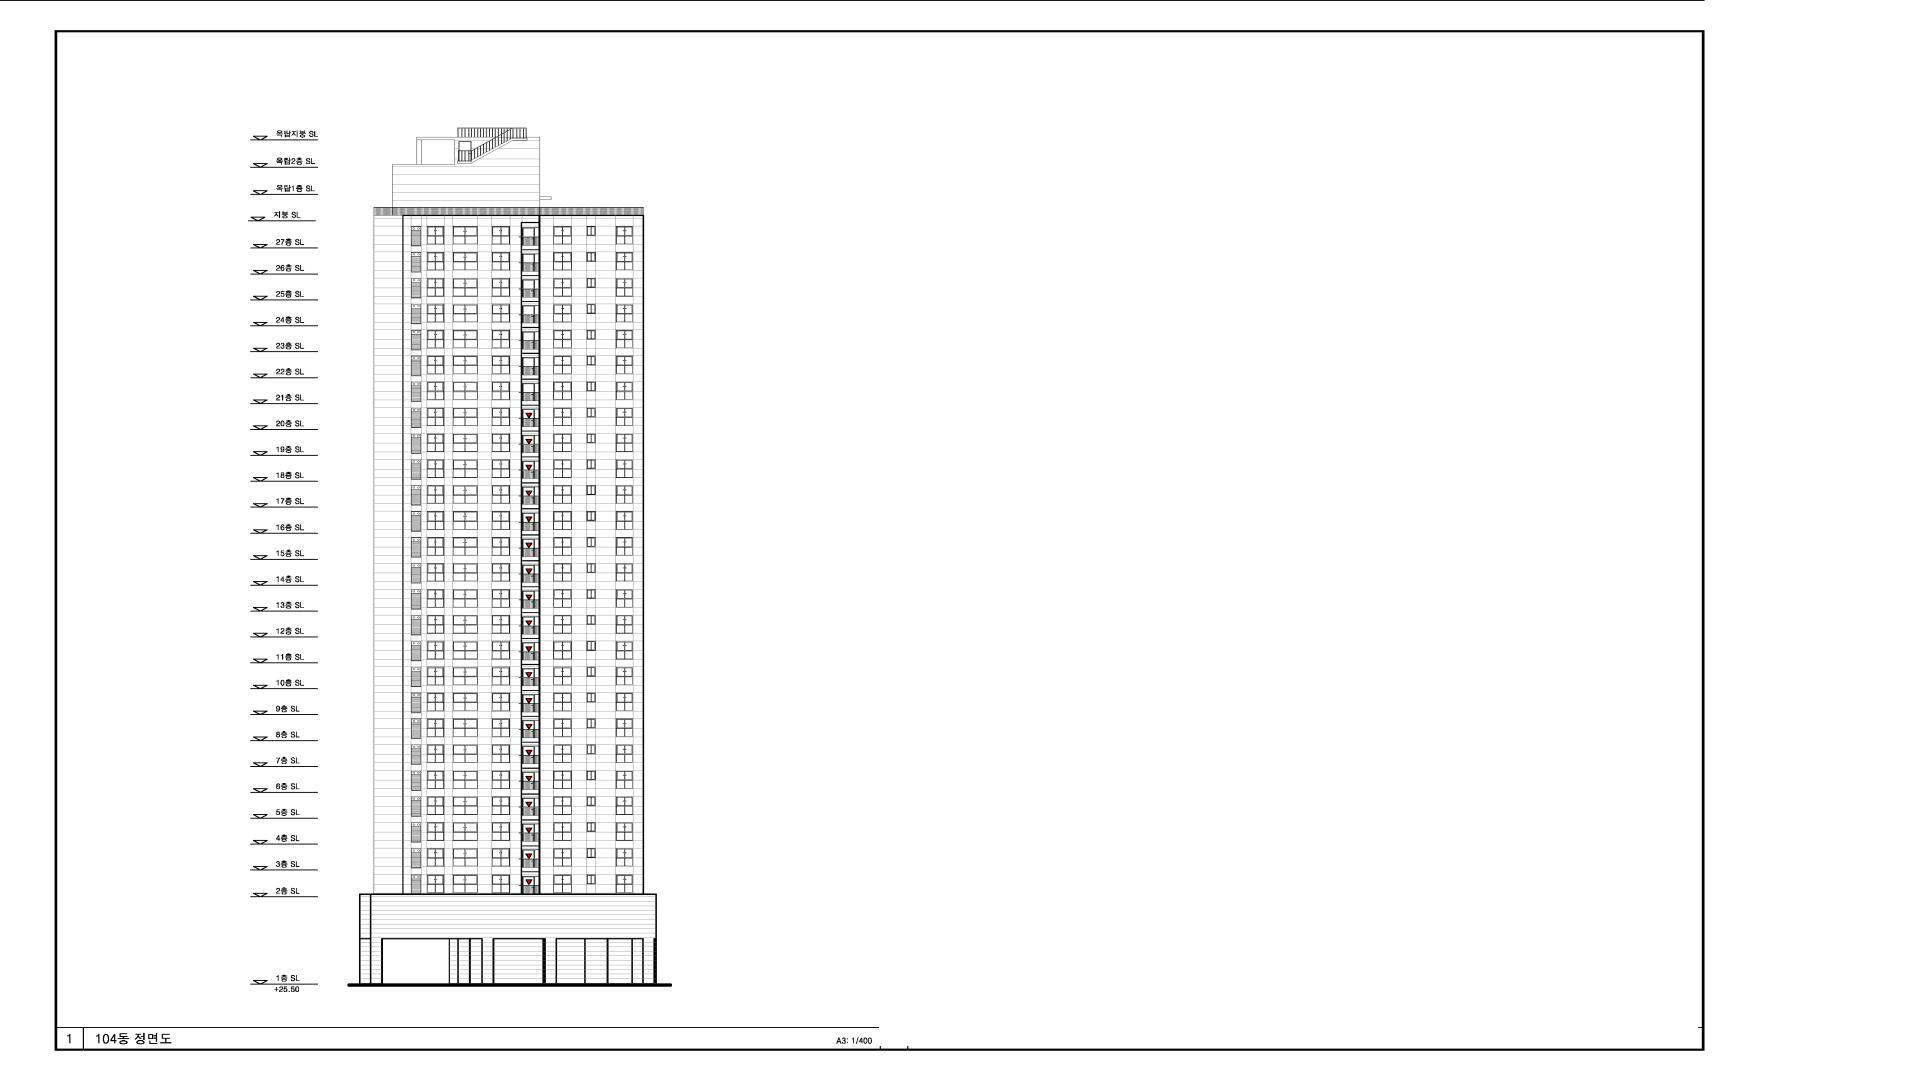door: (381, 938, 450, 985), (585, 938, 644, 985), (493, 938, 546, 985), (555, 938, 585, 985), (458, 141, 471, 162)
wall: (359, 137, 657, 987)
window: (452, 459, 478, 478), (452, 511, 478, 530), (452, 537, 478, 556), (452, 563, 478, 582), (452, 589, 478, 608), (452, 615, 478, 634), (452, 796, 478, 815), (452, 822, 478, 841), (452, 848, 478, 867), (452, 226, 478, 245), (452, 278, 478, 297), (453, 485, 478, 504), (452, 355, 477, 374), (452, 641, 478, 659), (452, 667, 478, 685), (452, 693, 478, 711), (452, 719, 478, 737), (452, 745, 478, 763), (452, 771, 478, 789), (452, 875, 478, 893), (452, 252, 478, 270), (452, 304, 478, 322), (452, 330, 478, 348), (452, 382, 478, 400), (452, 408, 478, 426), (452, 434, 478, 452), (491, 718, 510, 737), (491, 770, 510, 789), (491, 822, 510, 841), (491, 226, 510, 245), (491, 278, 510, 297), (491, 304, 510, 323), (491, 433, 510, 452), (491, 459, 510, 478), (491, 485, 510, 504), (491, 511, 510, 530), (491, 537, 510, 556), (491, 563, 510, 582), (491, 589, 510, 608), (491, 615, 510, 634), (491, 641, 510, 660), (553, 226, 572, 245), (553, 304, 572, 323), (553, 667, 572, 686), (553, 796, 572, 815), (553, 822, 572, 841), (427, 874, 445, 894), (491, 667, 510, 685), (491, 693, 510, 711), (491, 745, 510, 763), (492, 796, 510, 815), (492, 848, 510, 867), (491, 875, 510, 893), (615, 615, 633, 634), (615, 589, 633, 608), (615, 563, 633, 582), (615, 537, 633, 556), (615, 485, 633, 504), (615, 459, 633, 478), (615, 407, 633, 426), (615, 304, 633, 323), (615, 278, 633, 297), (615, 226, 633, 245), (491, 252, 510, 270), (491, 330, 510, 348), (491, 356, 510, 374), (491, 382, 510, 400), (491, 408, 510, 426), (426, 615, 444, 634), (427, 537, 445, 556), (427, 278, 445, 297), (427, 226, 445, 245), (553, 278, 571, 297), (553, 459, 571, 478), (553, 485, 571, 504), (553, 511, 571, 530), (553, 563, 571, 582), (553, 589, 571, 608), (553, 615, 571, 634), (553, 641, 572, 659), (553, 693, 572, 711), (553, 719, 572, 737), (553, 745, 572, 763), (553, 848, 571, 867), (553, 875, 572, 893), (615, 874, 633, 893), (615, 822, 633, 841), (615, 796, 633, 815), (615, 770, 633, 789), (615, 641, 633, 659), (615, 434, 633, 452), (615, 382, 633, 400), (615, 356, 633, 374), (615, 330, 633, 348), (427, 382, 445, 400), (427, 304, 445, 322), (427, 252, 445, 270), (553, 252, 571, 270), (553, 330, 571, 348), (553, 356, 571, 374), (554, 382, 572, 400), (554, 408, 572, 426), (553, 434, 571, 452), (553, 538, 571, 556), (553, 771, 571, 789), (615, 848, 633, 866), (615, 745, 633, 763), (615, 719, 633, 737), (615, 693, 633, 711), (615, 667, 633, 685), (427, 848, 444, 867), (522, 876, 539, 895), (522, 616, 539, 635), (522, 486, 539, 505), (522, 331, 539, 350), (522, 227, 539, 246), (616, 511, 633, 530), (616, 252, 633, 271), (427, 822, 444, 841), (427, 796, 444, 815), (427, 770, 444, 789), (427, 744, 444, 763), (427, 667, 444, 686), (427, 641, 444, 660), (427, 589, 444, 608), (427, 563, 444, 582), (427, 511, 444, 530), (427, 485, 444, 504), (427, 459, 444, 478), (427, 407, 444, 426), (522, 850, 539, 868), (522, 824, 539, 842), (522, 798, 539, 816), (522, 772, 539, 790), (522, 746, 539, 764), (522, 720, 539, 738), (522, 694, 539, 712), (522, 668, 539, 686), (522, 642, 539, 660), (522, 591, 539, 609), (522, 565, 539, 583), (522, 539, 539, 557), (522, 513, 539, 531), (522, 461, 539, 479), (522, 435, 539, 453), (522, 409, 539, 427), (522, 383, 539, 401), (522, 357, 539, 375), (522, 305, 539, 323), (522, 279, 539, 297), (522, 253, 539, 271), (427, 719, 444, 737), (427, 693, 444, 711), (427, 434, 444, 452), (427, 356, 444, 374), (427, 330, 444, 348), (411, 252, 422, 273), (411, 745, 422, 765), (411, 667, 422, 687), (411, 459, 422, 479), (411, 408, 422, 428), (411, 356, 422, 376), (411, 589, 421, 610), (411, 563, 421, 584), (411, 537, 421, 558), (411, 511, 421, 532), (411, 433, 421, 454), (411, 874, 421, 894), (411, 797, 421, 817), (411, 771, 421, 791), (411, 719, 421, 739), (411, 693, 421, 713), (411, 641, 421, 661), (411, 615, 421, 635), (411, 485, 421, 505), (411, 382, 421, 402), (411, 330, 421, 350), (411, 304, 421, 324), (411, 278, 421, 298), (411, 226, 421, 246), (411, 849, 421, 868), (411, 823, 421, 842), (586, 874, 596, 885), (586, 226, 596, 236), (586, 252, 596, 262), (586, 278, 596, 288), (586, 304, 596, 314), (586, 330, 596, 340), (586, 356, 596, 366), (586, 382, 596, 392), (586, 408, 596, 418), (586, 433, 596, 443), (586, 459, 596, 469), (586, 485, 596, 495), (586, 511, 596, 521), (586, 537, 596, 547), (586, 563, 596, 573), (586, 589, 596, 599), (586, 615, 596, 625), (586, 641, 596, 651), (586, 667, 596, 677), (586, 693, 596, 703), (586, 718, 596, 728), (586, 744, 596, 754), (586, 770, 596, 780), (586, 796, 596, 806), (586, 822, 596, 832), (586, 848, 595, 858)
